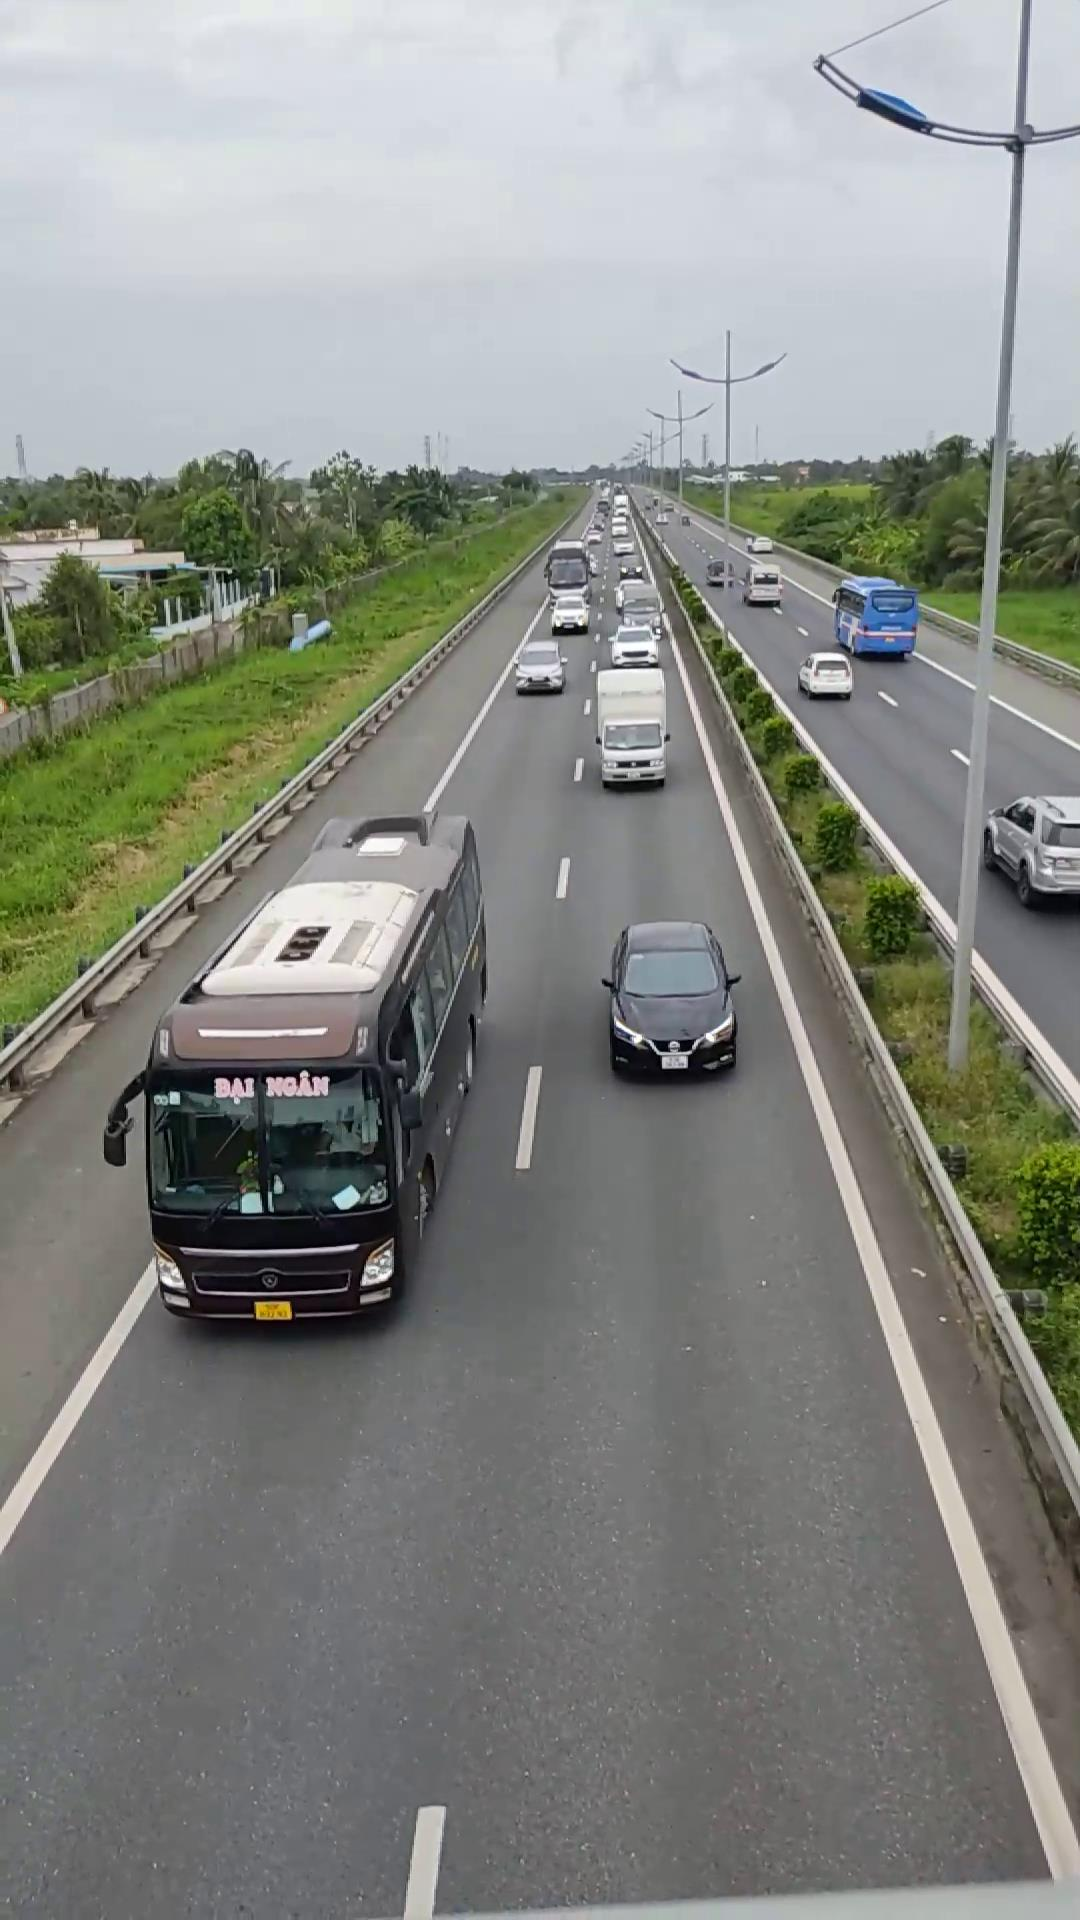bus: (112, 810, 492, 1324)
car: (601, 918, 740, 1077), (975, 727, 1079, 910)
truck: (589, 662, 673, 789), (833, 571, 919, 659)
